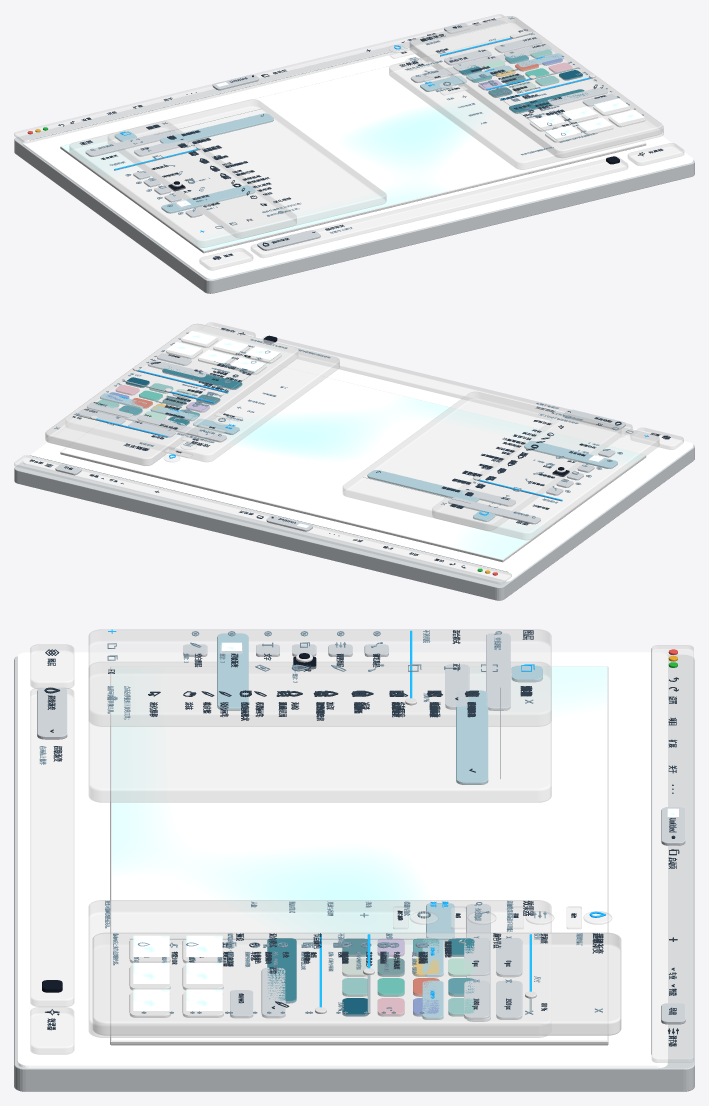
Rendered from image-pro-dark.glb.
The picture shows the model from 3 angles, top to bottom: view 1: azimuth 30°, elevation 25°; view 2: azimuth 150°, elevation 25°; view 3: azimuth 270°, elevation 25°; orthographic projection. The views are drawn at different scales.
Parts seen in each view (by area): view 1: SuperGradientCanvas, Workspace, Tools.glassBody, WindowEdge, Layers.glassBody, BasicInspector.glassBody, Inspector.glassBody, Effects.glassBody, Titlebar.glass, Toolbar, CanvasPaper, Tools.tool.selected (+7 smaller); view 2: SuperGradientCanvas, Workspace, Tools.glassBody, WindowEdge, Layers.glassBody, BasicInspector.glassBody, Inspector.glassBody, Titlebar.glass, Effects.glassBody, Toolbar, CanvasPaper, Tools.tool.selected (+7 smaller); view 3: SuperGradientCanvas, Workspace, Tools.glassBody, Layers.glassBody, BasicInspector.glassBody, WindowEdge, Inspector.glassBody, Effects.glassBody, Titlebar.glass, Toolbar, CanvasPaper, Tools.tool.selected (+23 smaller).
Part boxes in pixels (left/top/right/bottom): SuperGradientCanvas: left=61, top=39, right=644, bottom=250; Workspace: left=23, top=24, right=693, bottom=279; Tools.glassBody: left=108, top=99, right=386, bottom=238; WindowEdge: left=14, top=20, right=694, bottom=293; Layers.glassBody: left=69, top=121, right=296, bottom=247; BasicInspector.glassBody: left=410, top=16, right=661, bottom=157; Inspector.glassBody: left=410, top=16, right=661, bottom=151; Effects.glassBody: left=389, top=32, right=663, bottom=169; Titlebar.glass: left=14, top=14, right=504, bottom=143; Toolbar: left=251, top=157, right=627, bottom=257; CanvasPaper: left=60, top=65, right=646, bottom=253; Tools.tool.selected: left=160, top=113, right=273, bottom=143; SuperGradientCanvas: left=61, top=348, right=644, bottom=559; Workspace: left=23, top=326, right=693, bottom=581; Tools.glassBody: left=343, top=392, right=621, bottom=530; WindowEdge: left=14, top=444, right=694, bottom=600; Layers.glassBody: left=432, top=413, right=659, bottom=539; BasicInspector.glassBody: left=45, top=324, right=297, bottom=465; Inspector.glassBody: left=45, top=324, right=297, bottom=465; Titlebar.glass: left=14, top=455, right=511, bottom=584; Effects.glassBody: left=169, top=347, right=339, bottom=461; Toolbar: left=262, top=336, right=632, bottom=436; CanvasPaper: left=60, top=375, right=646, bottom=562; Tools.tool.selected: left=367, top=470, right=479, bottom=501; SuperGradientCanvas: left=111, top=666, right=607, bottom=1040; Workspace: left=17, top=652, right=667, bottom=1068; Tools.glassBody: left=89, top=662, right=551, bottom=802; Layers.glassBody: left=89, top=629, right=551, bottom=726; BasicInspector.glassBody: left=93, top=933, right=620, bottom=1035; WindowEdge: left=14, top=654, right=694, bottom=1091; Inspector.glassBody: left=93, top=933, right=620, bottom=1035; Effects.glassBody: left=89, top=900, right=551, bottom=1037; Titlebar.glass: left=652, top=645, right=693, bottom=1062; Toolbar: left=30, top=688, right=73, bottom=1006; CanvasPaper: left=110, top=666, right=608, bottom=1045; Tools.tool.selected: left=456, top=690, right=488, bottom=784.
Size of the model in its own units: 10 by 0.771 by 6.94.
